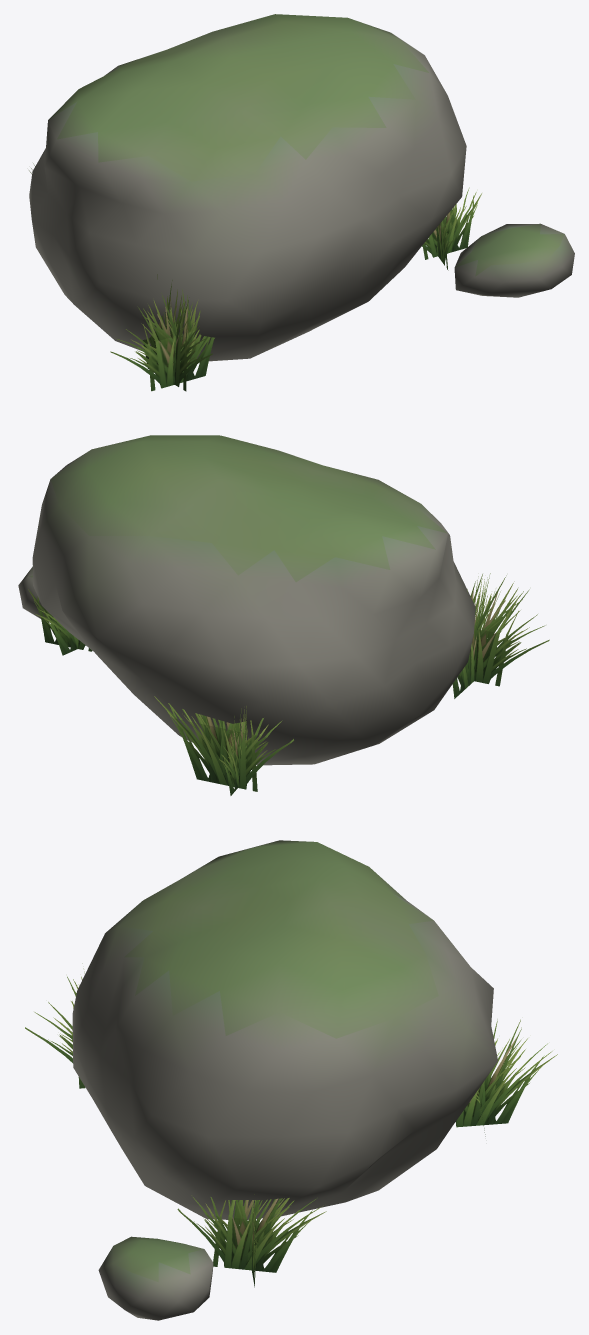
The model's file is rock_b.glb.
The picture shows the model from 3 angles, top to bottom: view 1: azimuth 30°, elevation 25°; view 2: azimuth 150°, elevation 25°; view 3: azimuth 270°, elevation 25°; orthographic projection. The views are drawn at different scales.
Visible parts, largest first — view 1: rock_b_mesh; view 2: rock_b_mesh; view 3: rock_b_mesh.
Boxes of the visible parts, left/top/right/bottom form: rock_b_mesh: left=29, top=14, right=574, bottom=391; rock_b_mesh: left=18, top=435, right=549, bottom=795; rock_b_mesh: left=25, top=840, right=557, bottom=1320.
Bounding box in the file's own units: 1.38 × 0.6959 × 1.16.
Materials: 3 (1 with a texture image).
